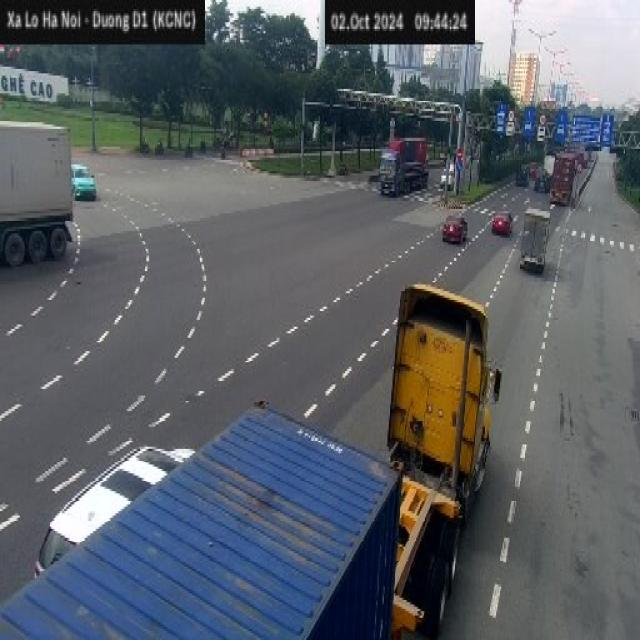car: (31, 445, 210, 584), (70, 162, 96, 198), (442, 214, 468, 242), (492, 209, 512, 235)
container-truck: (0, 279, 515, 640)
truck: (0, 117, 72, 266), (379, 136, 429, 196)
